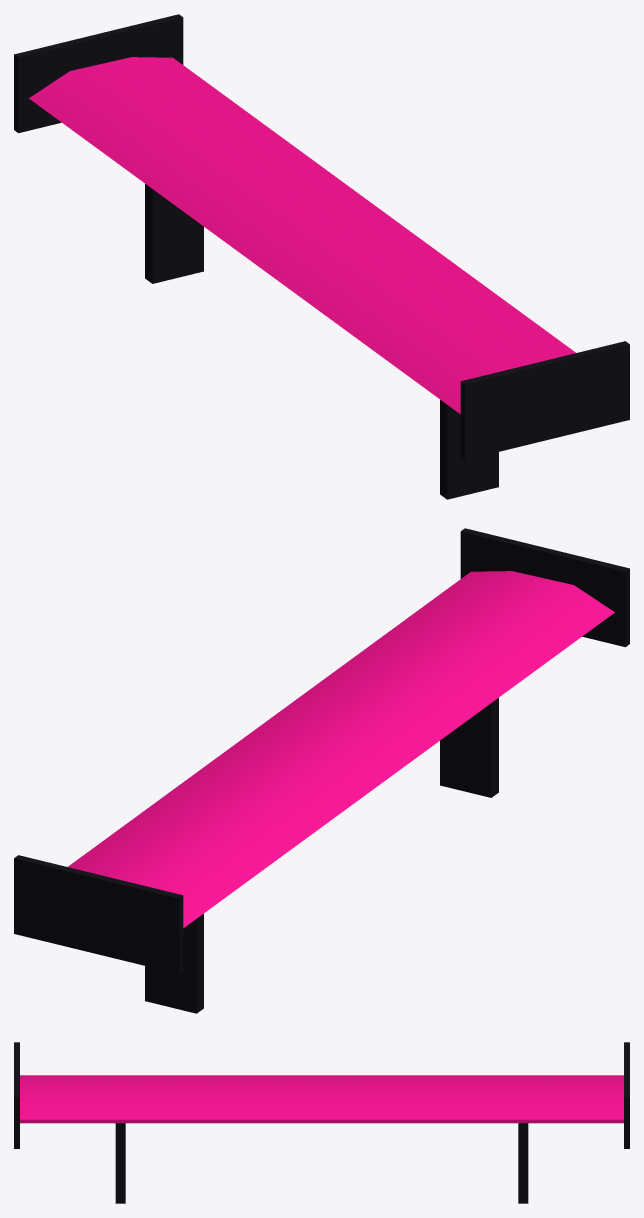
The model's file is SM_Spoiler_Wing.fbx.
3 views of the same model, one above another, from view 1: azimuth 30°, elevation 25°; view 2: azimuth 150°, elevation 25°; view 3: azimuth 270°, elevation 25° (orthographic). The views are drawn at different scales.
Visible parts, largest first — view 1: SM_Spoiler_Wing; view 2: SM_Spoiler_Wing; view 3: SM_Spoiler_Wing.
Part boxes in pixels (x1=…): SM_Spoiler_Wing: x1=14, y1=14, x2=629, y2=499; SM_Spoiler_Wing: x1=14, y1=528, x2=629, y2=1013; SM_Spoiler_Wing: x1=14, y1=1042, x2=629, y2=1203.
Size of the model in its own units: 32 by 34 by 152.
